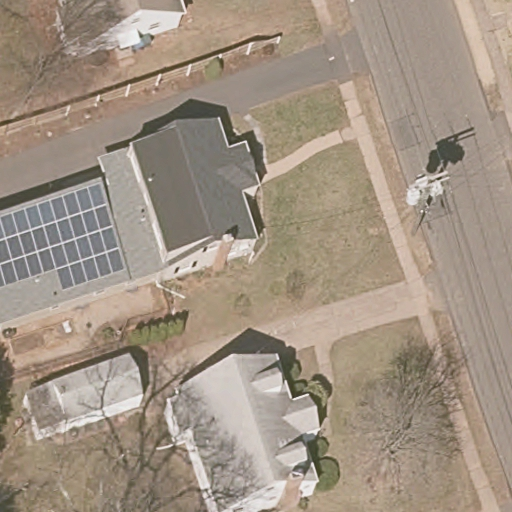DT: (405, 167, 450, 228)
